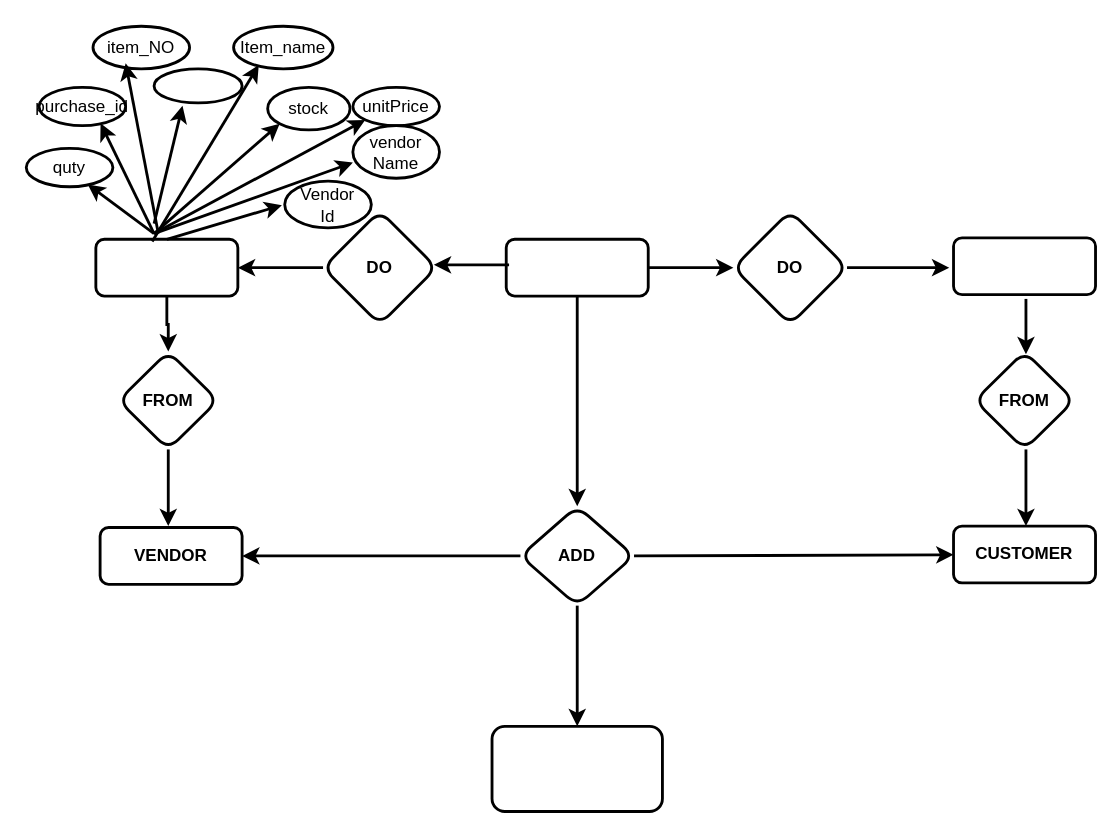
Image size: 1120x836. Some labels were removed from this diagram. The shapes that lost their labels are listed below. From the top down, each one's centre as x and y in pixels, then its label:
At pixel 197 85: "P_date".
At pixel 166 267: "PURCHASE".
At pixel 576 267: "USER".
At pixel 1023 265: "SALE".
At pixel 576 768: "ITEM".
